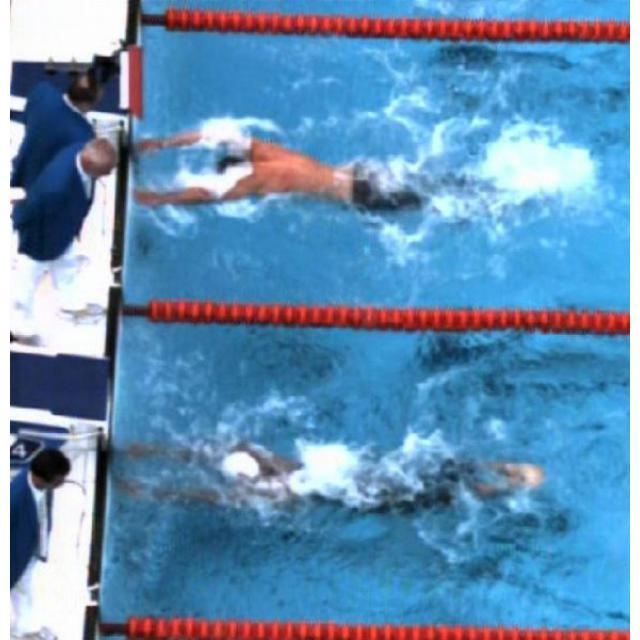human: (133, 127, 424, 219)
